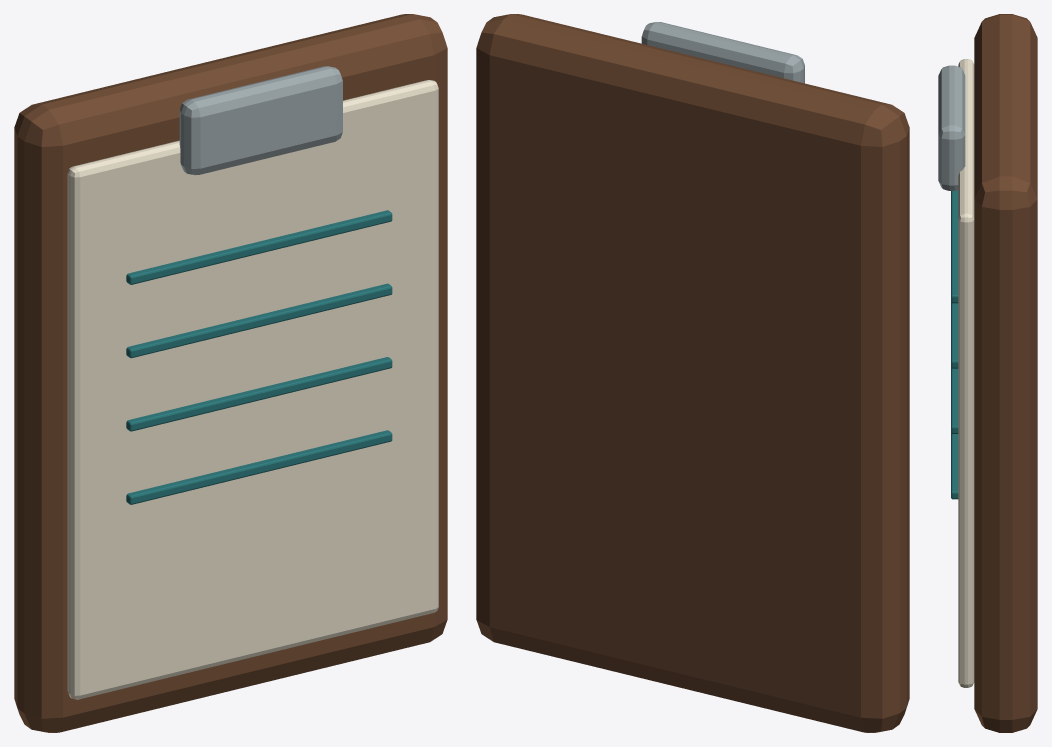
Rendered from clipboard.glb.
3 views of the same model, side by side, from view 1: azimuth 30°, elevation 25°; view 2: azimuth 150°, elevation 25°; view 3: azimuth 270°, elevation 25° (orthographic). The views are drawn at different scales.
Parts seen in each view (by area): view 1: clipboard; view 2: clipboard; view 3: clipboard.
Part boxes in pixels (<box>): clipboard: <box>14,14,447,732</box>; clipboard: <box>476,14,909,732</box>; clipboard: <box>938,14,1037,732</box>.
Bounding box in the file's own units: 0.24 × 0.34 × 0.055.
